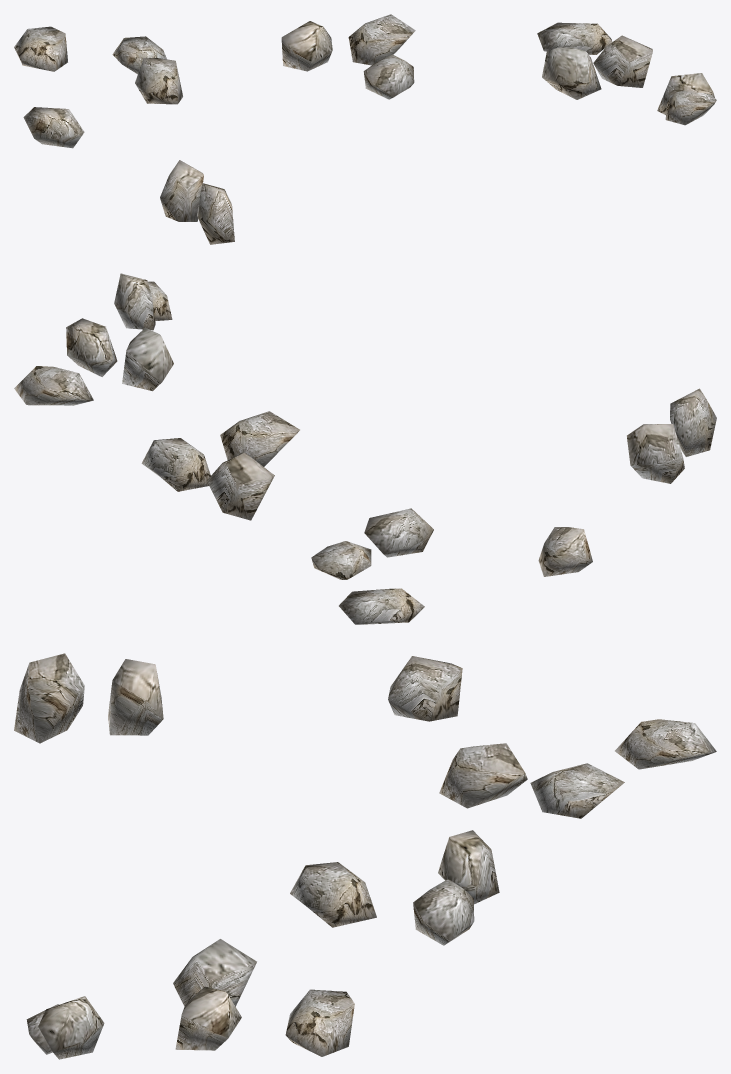
Rendered from SmallRocks1.fbx.
3 renders of one model, top to bottom at view 1: azimuth 30°, elevation 25°; view 2: azimuth 150°, elevation 25°; view 3: azimuth 270°, elevation 25°, orthographic. The views are drawn at different scales.
Visible parts, largest first — view 1: SmallRocks1_LOD0; view 2: SmallRocks1_LOD0; view 3: SmallRocks1_LOD0.
Part boxes in pixels (left/top/right/bottom): SmallRocks1_LOD0: left=14, top=14, right=716, bottom=244; SmallRocks1_LOD0: left=14, top=273, right=716, bottom=624; SmallRocks1_LOD0: left=14, top=653, right=716, bottom=1059.
Size of what is drawn, in the model's own units: 194 by 18.26 by 155.
